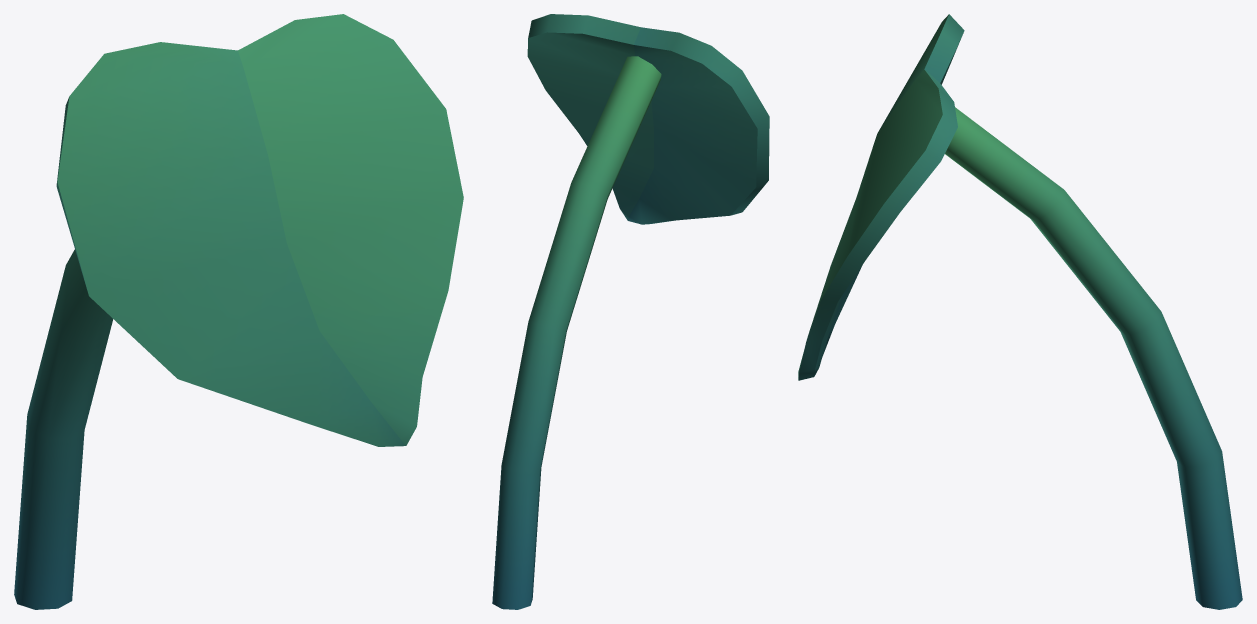
File: Small Monstera.glb
3 views of the same model, side by side, from view 1: azimuth 30°, elevation 25°; view 2: azimuth 150°, elevation 25°; view 3: azimuth 270°, elevation 25° (orthographic). The views are drawn at different scales.
Parts seen in each view (by area): view 1: monstera_leaf_small_A; view 2: monstera_leaf_small_A; view 3: monstera_leaf_small_A.
Boxes of the visible parts, x1,y1,x2,y2 form: monstera_leaf_small_A: (14, 14, 463, 609); monstera_leaf_small_A: (492, 14, 769, 609); monstera_leaf_small_A: (798, 14, 1242, 609).
Bounding box in the file's own units: 0.351 × 0.6444 × 0.4758.
1 material, 1 textured.
